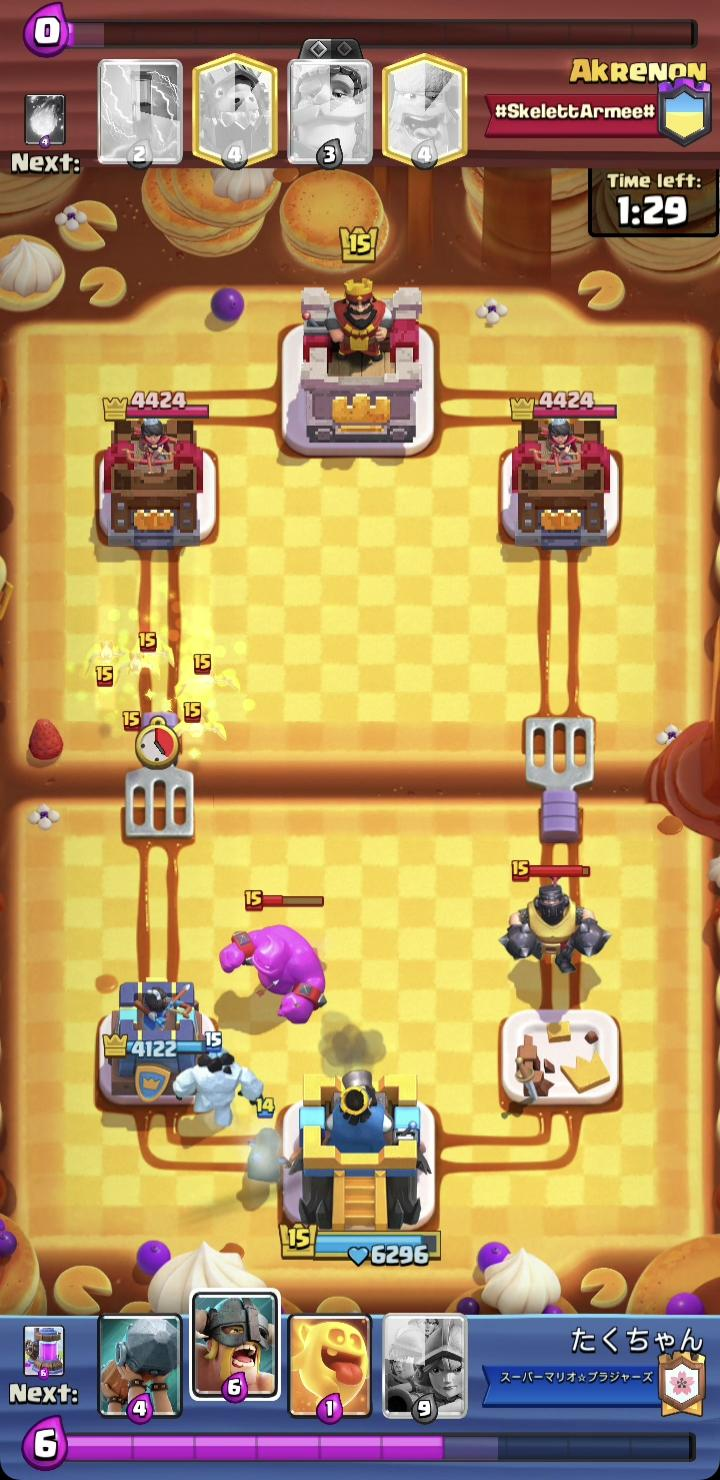ally_bandit: (239, 1095, 294, 1183)
ally_ice_golem: (169, 1030, 266, 1133)
enemy_bat: (166, 654, 243, 703), (165, 700, 232, 743), (81, 637, 128, 695), (128, 629, 174, 678)
enemy_elixirgolem: (218, 890, 328, 1026)
enemy_mega_knight: (497, 857, 608, 977)
